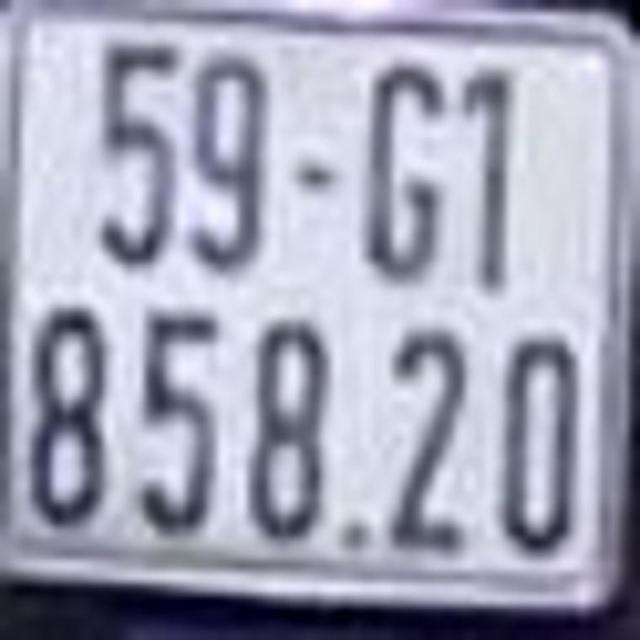0: (506, 335, 573, 552)
1: (460, 71, 514, 283)
2: (391, 322, 465, 557)
5: (96, 38, 183, 268), (139, 306, 221, 546)
8: (27, 304, 109, 530), (254, 320, 321, 538)
9: (193, 59, 265, 271)
G: (370, 57, 449, 273)
